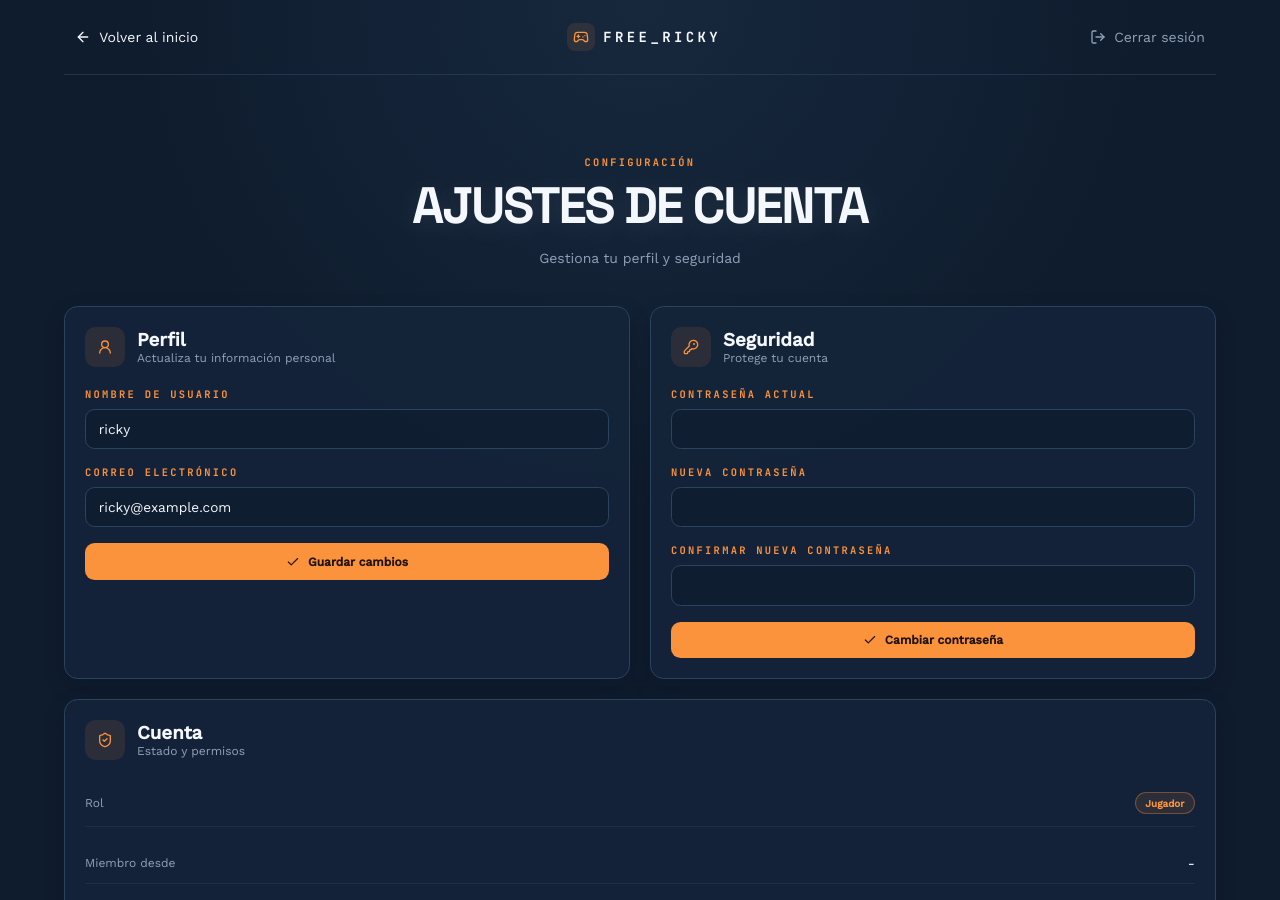
Test: Settings › muestra el error del backend si el guardado falla
Replace the text in the field showing "ricky" with "ricky_atrevido" at (347, 429), box [85,409,609,449]
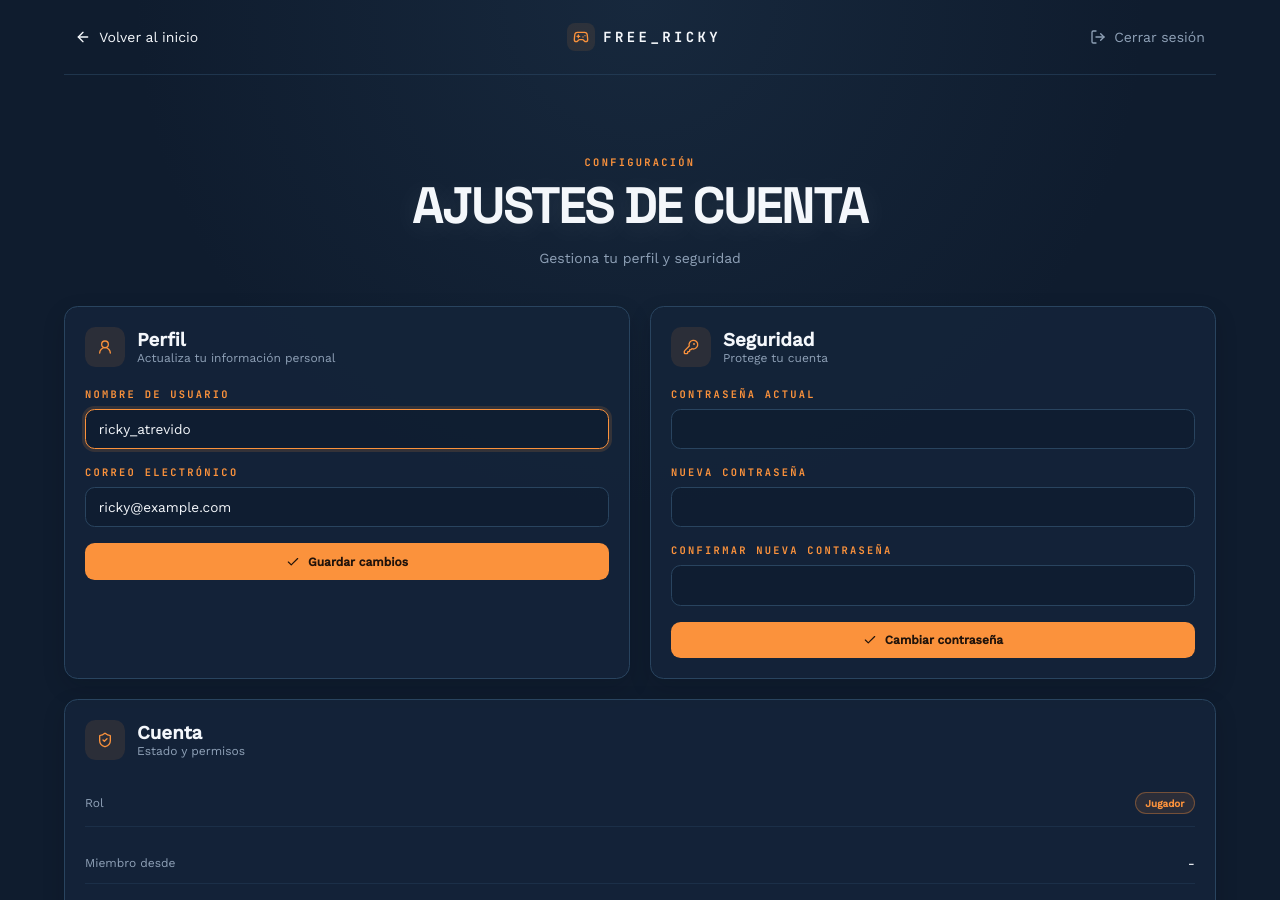
Click the button "Guardar cambios" at (347, 562), box [85,543,609,580]
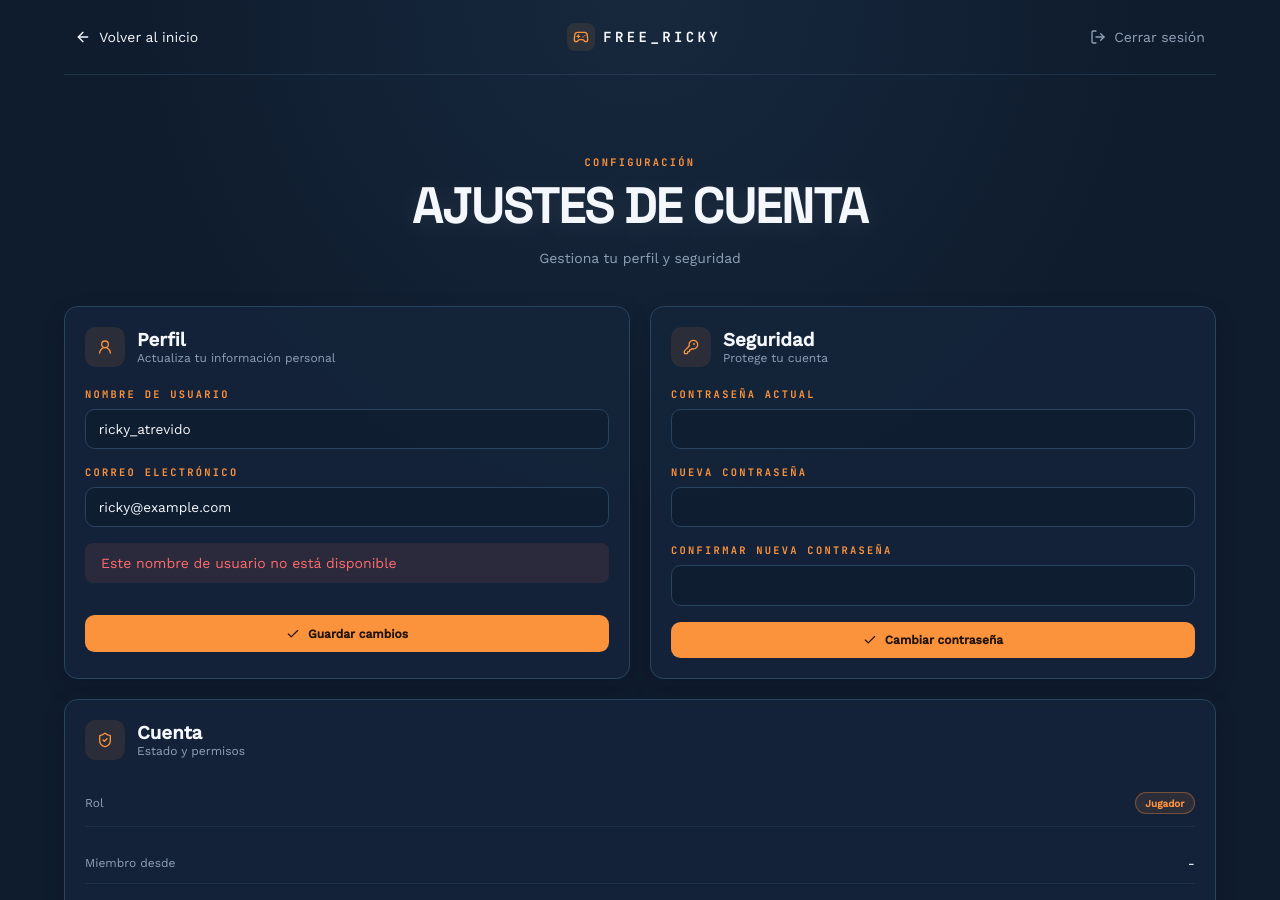
Now the message reads "Este nombre de usuario no está disponible", box [101,555,396,571]
